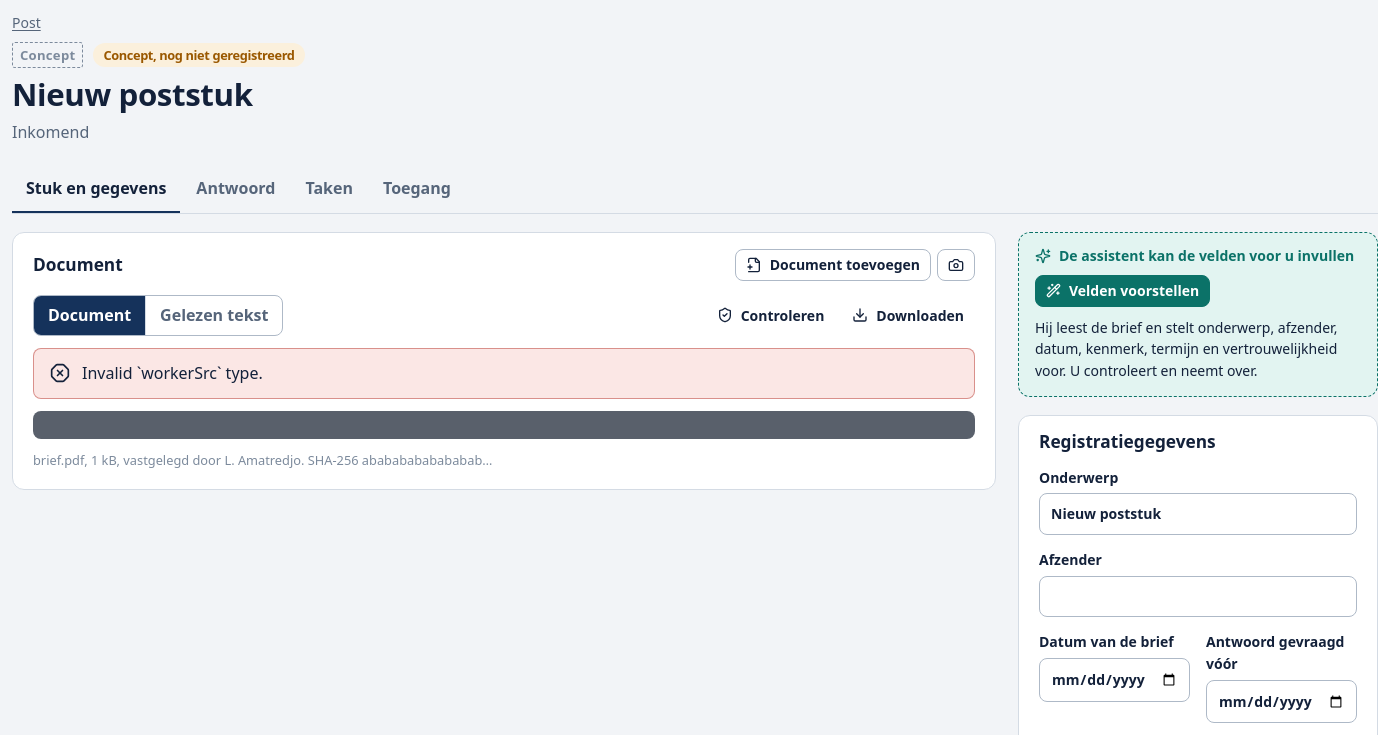
Registering a draft letter › shows the assistant’s proposal without changing any field until the person accepts it
Click the button with test id "propose": [1123, 291] box [1035,275,1210,307]
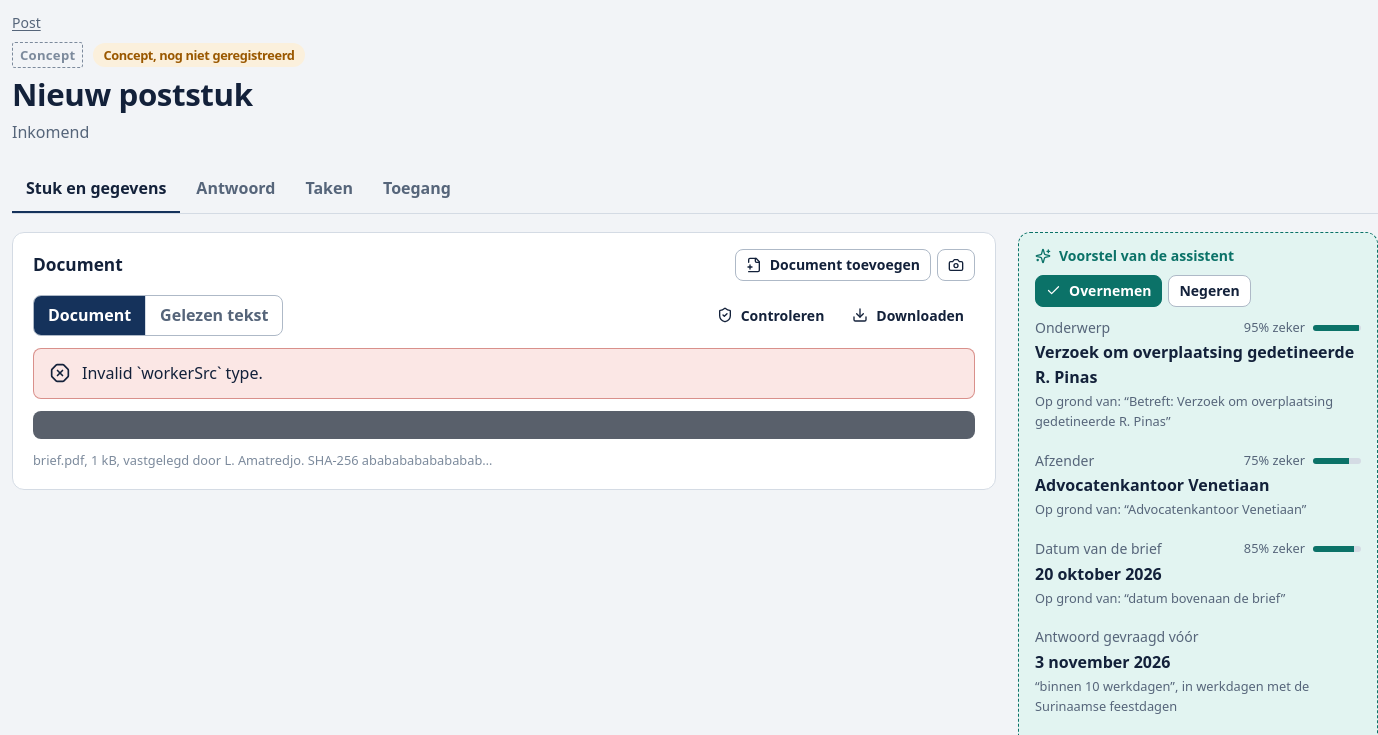
Expected: the text "Verzoek om overplaatsing gedetineerde R. Pinas" is shown, [1035,340,1361,390]
Expected: the text "Op grond van: “Betreft: Verzoek om overplaatsing" is shown, [1035,392,1361,432]
Click the button "Overnemen": [1099, 291] box [1035,275,1162,307]
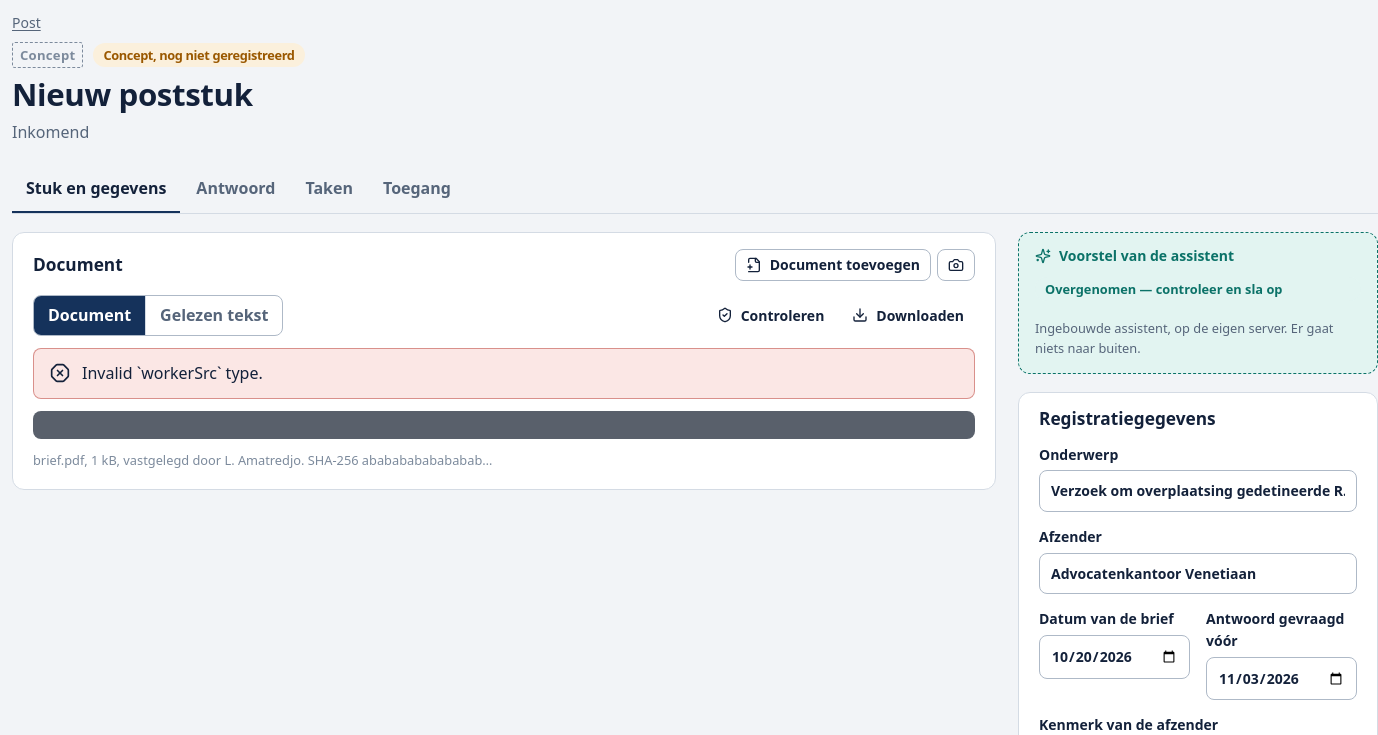
Expected: the field labelled "Onderwerp" holds "Verzoek om overplaatsing gedetineerde R. Pinas", [1039,470,1357,512]
Expected: the field labelled "Afzender" holds "Advocatenkantoor Venetiaan", [1039,553,1357,594]
Expected: the date field labelled "Antwoord gevraagd vóór" holds "2026-11-03", [1206,657,1357,700]
